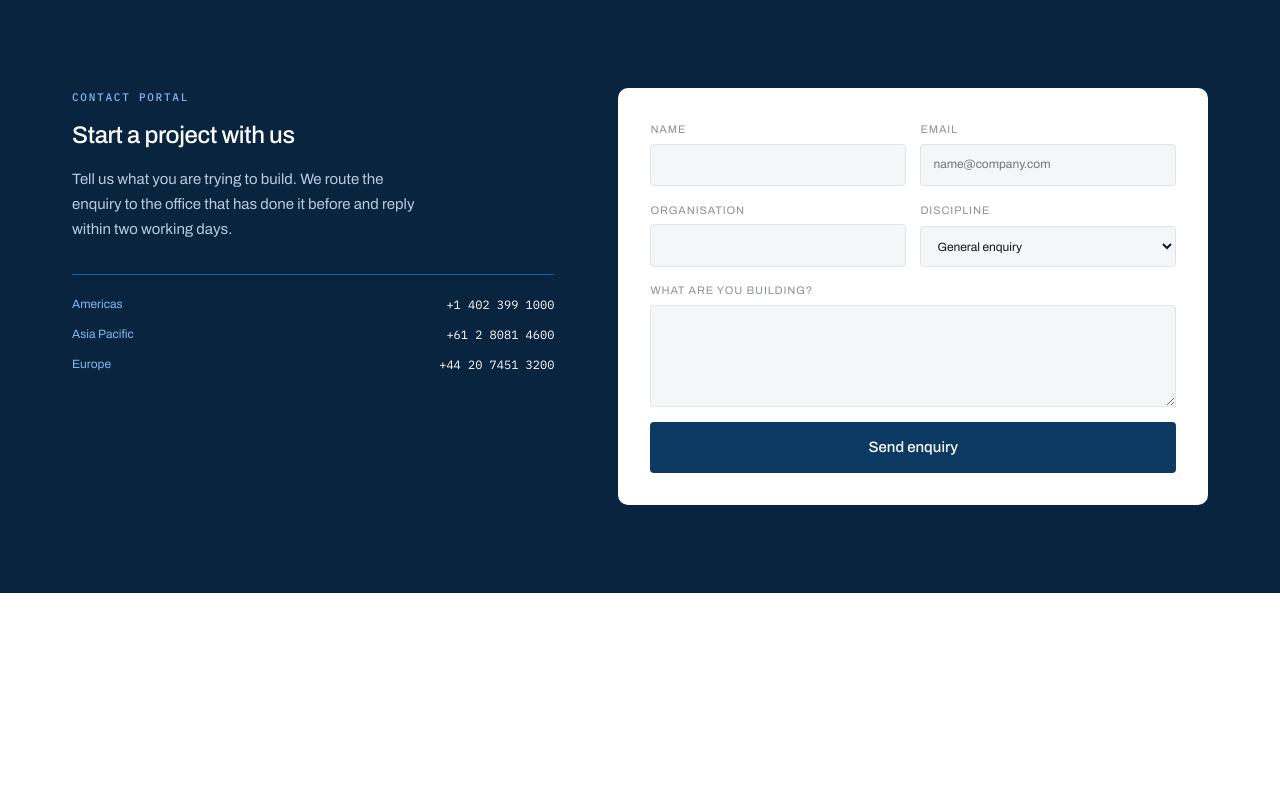
Test: ContactPortal › surfaces the server message and keeps what the user typed
In the field with id "name": (778, 165) [650,144,906,186], type "Nini Chen"
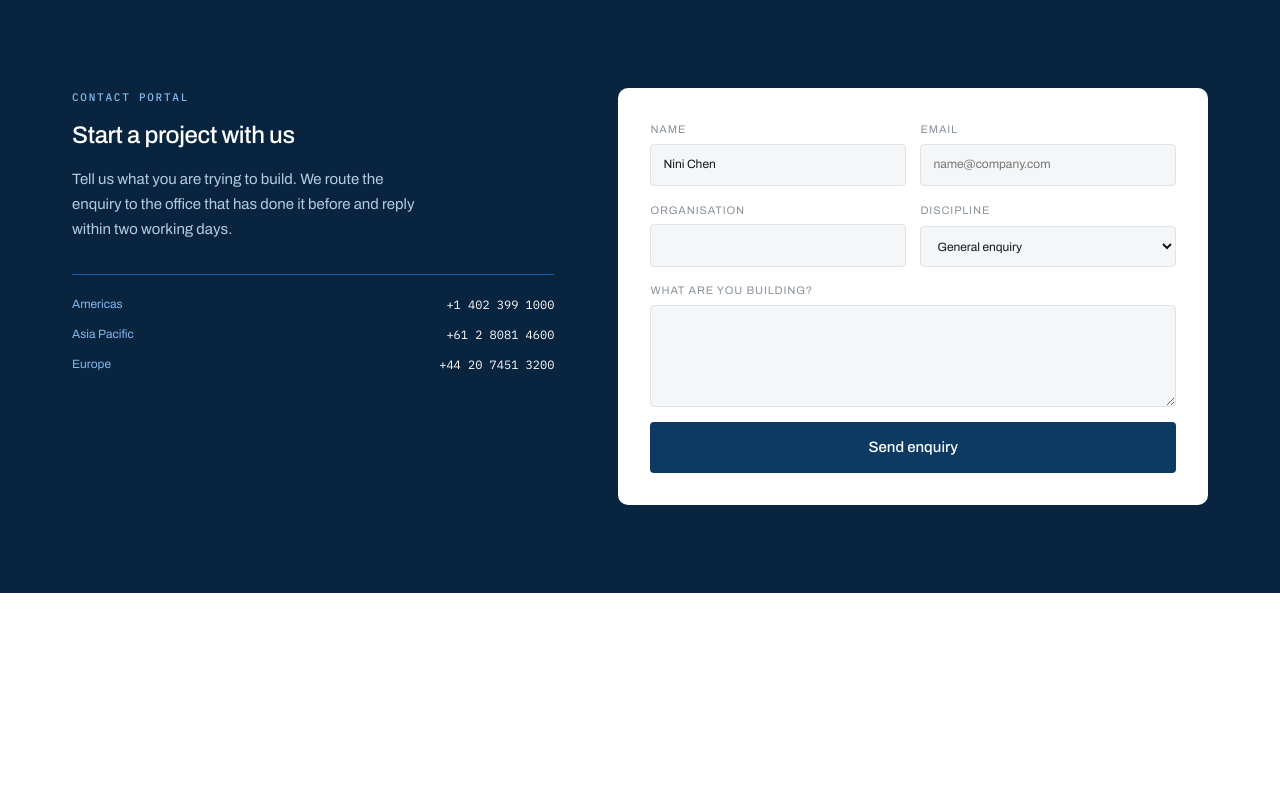
In the field with id "email": (1048, 165) [920,144,1176,186], type "nini@example.com"
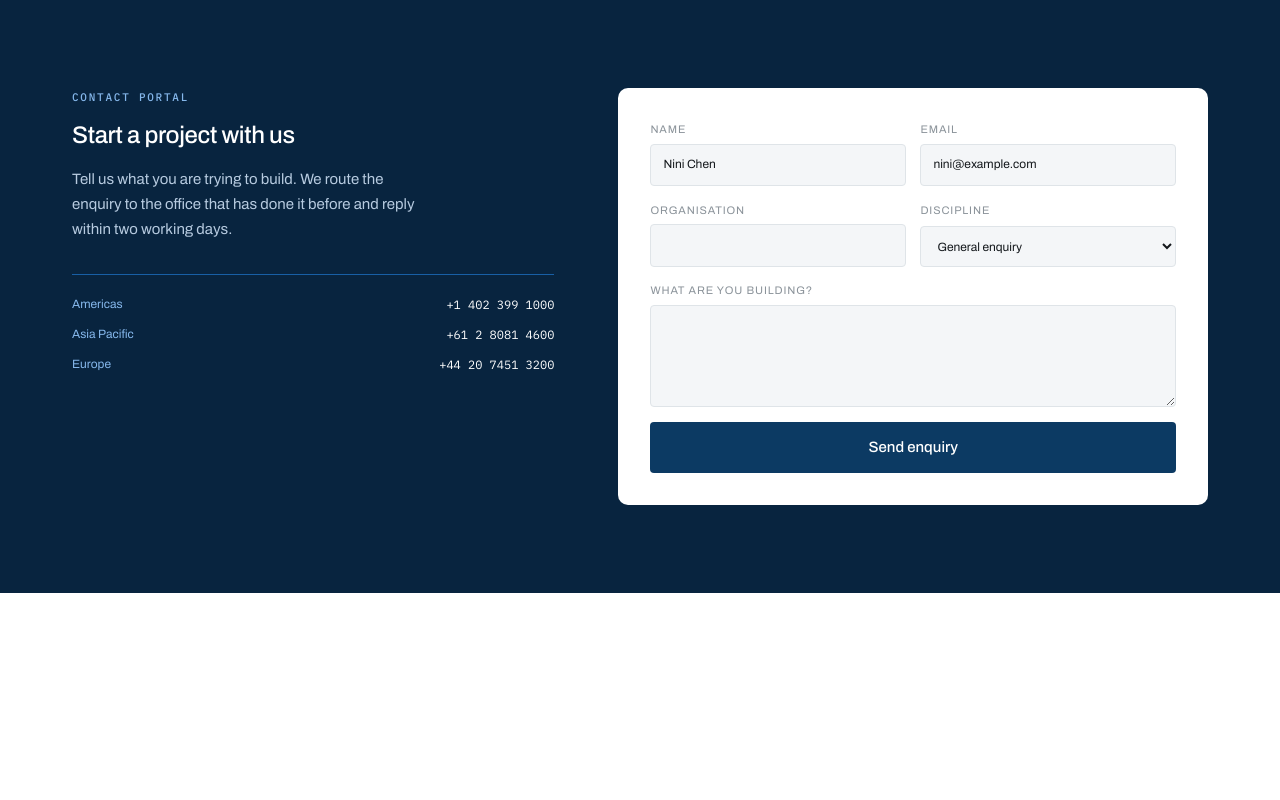
In the field with id "organisation": (778, 246) [650,224,906,267], type "Kaohsiung Water Bureau"
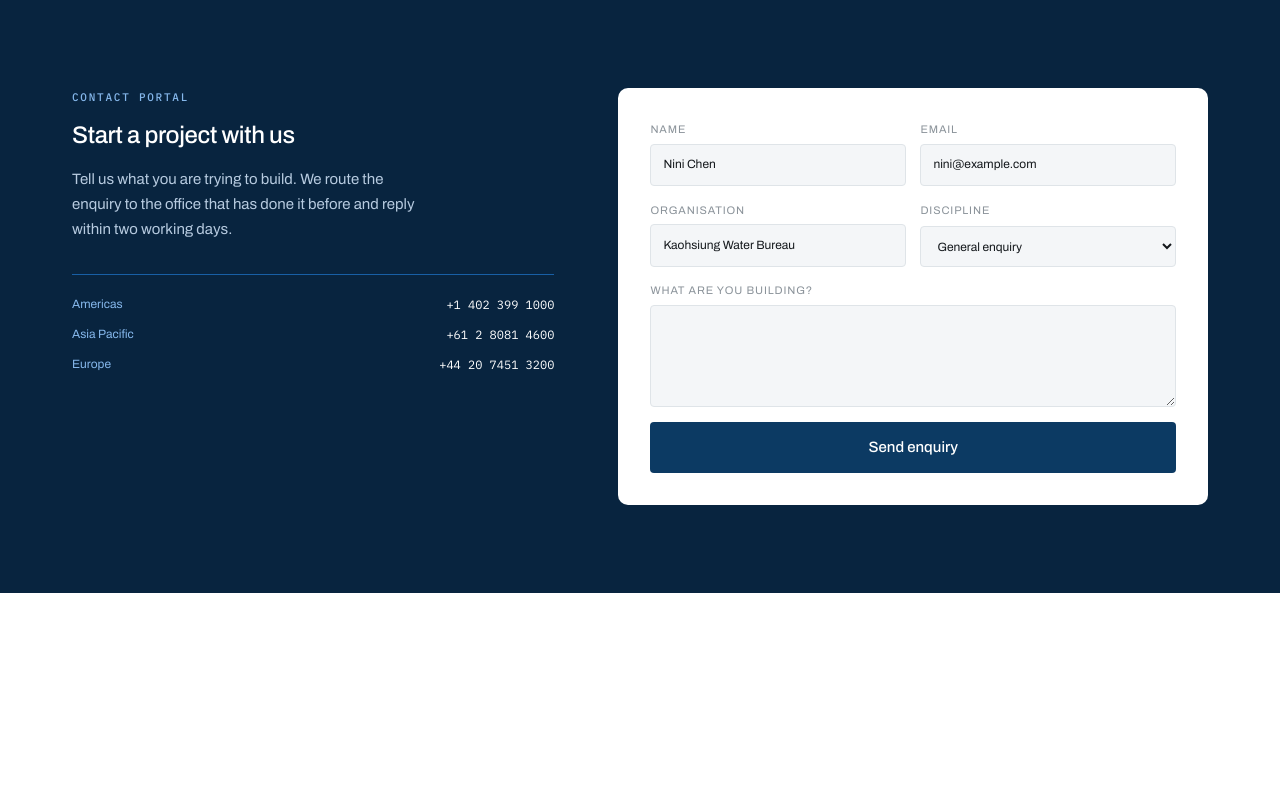
Select "Water" in the dropdown with id "discipline": (1048, 247) [920,226,1176,267]
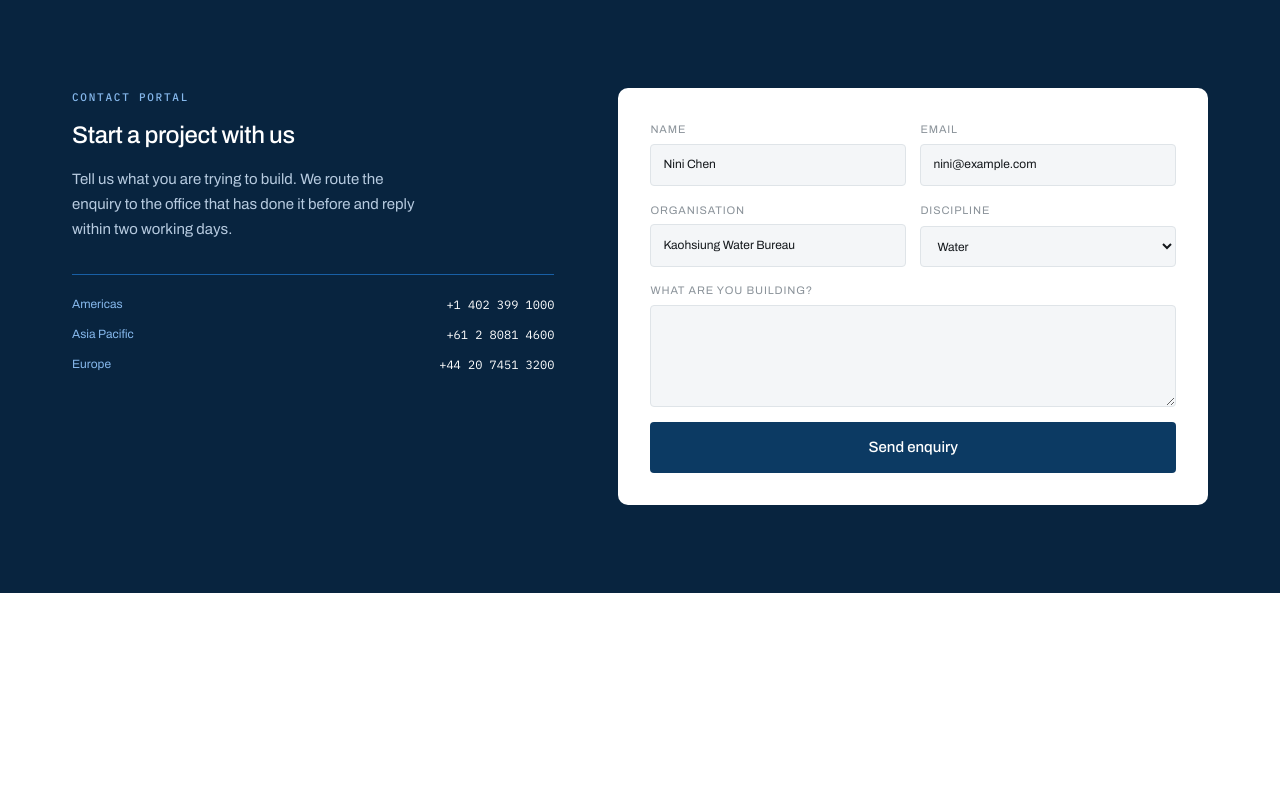
In the text box with id "message": (913, 356) [650,305,1176,407], type "We are scoping a reuse plant and need a permitting strategy."
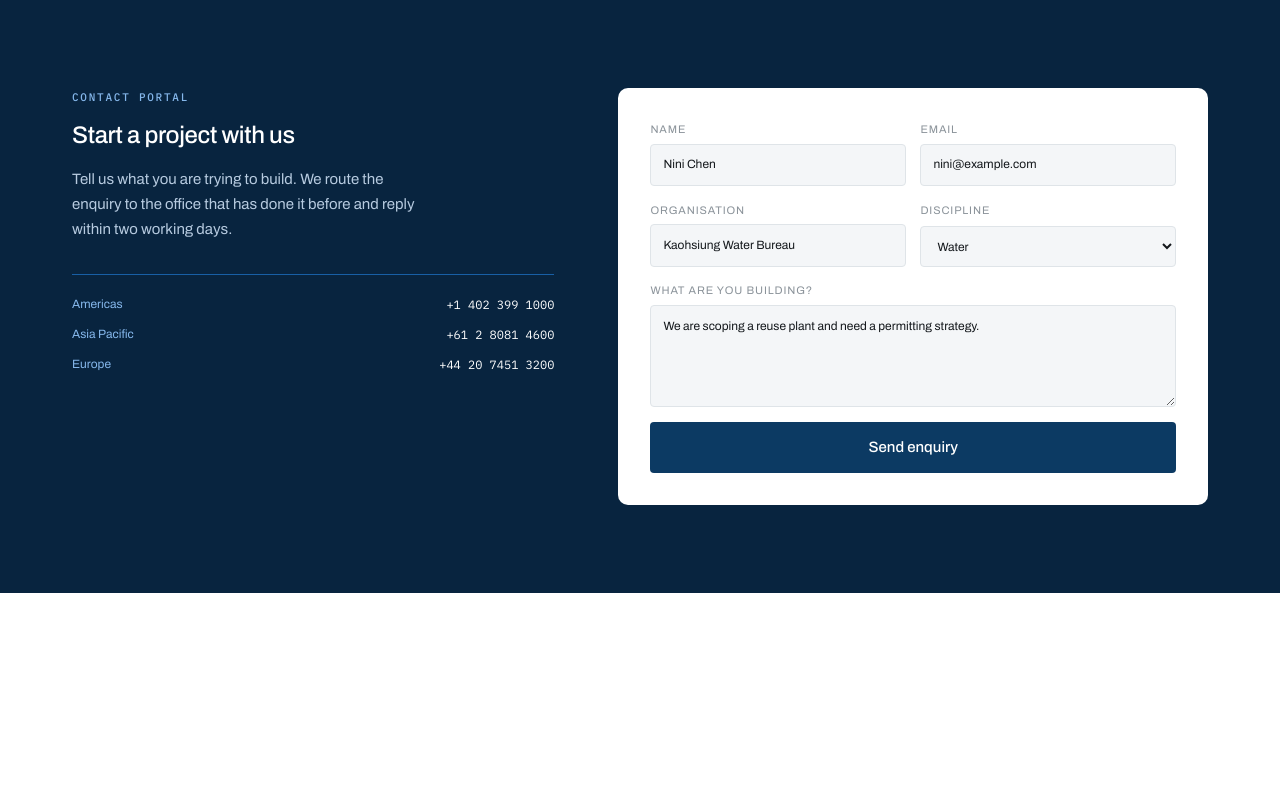
Submit the form, box [650,120,1176,473]
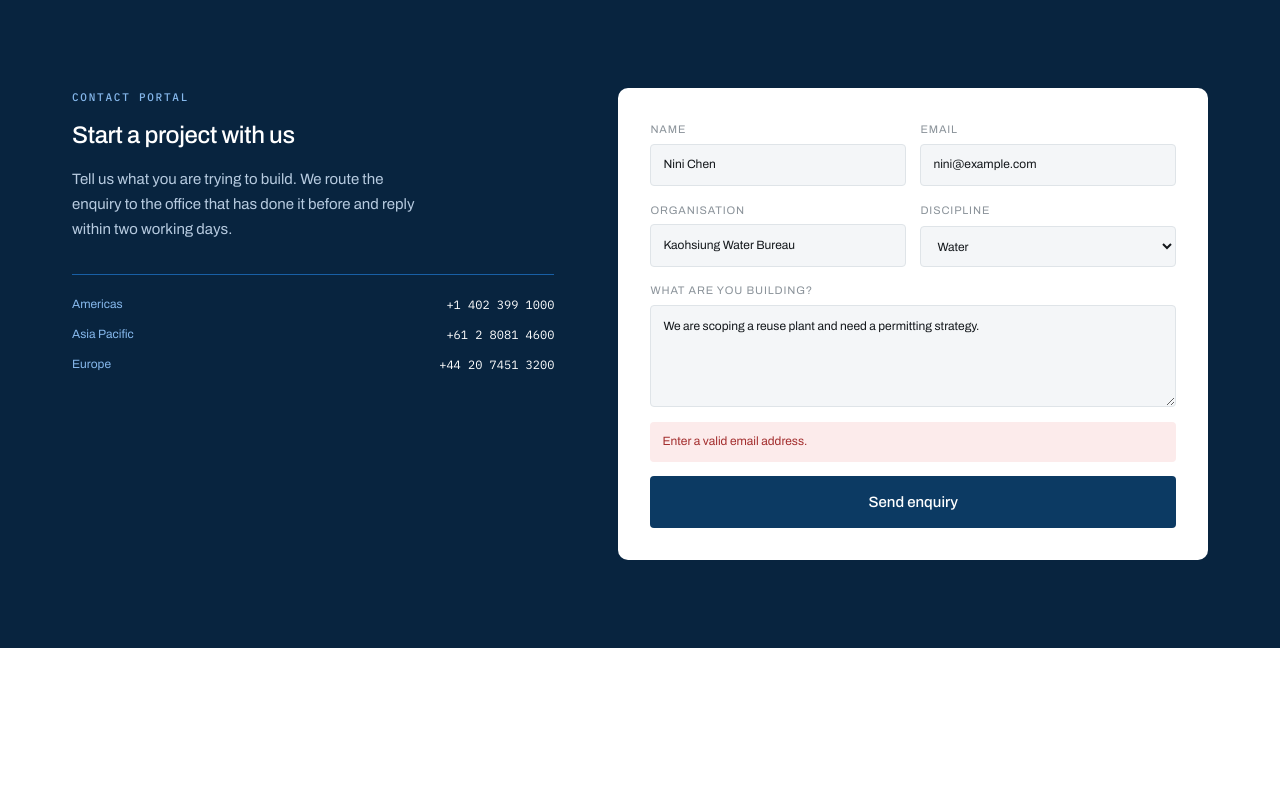
Check: the message "Enter a valid email address." is shown, box [650,422,1176,462]
